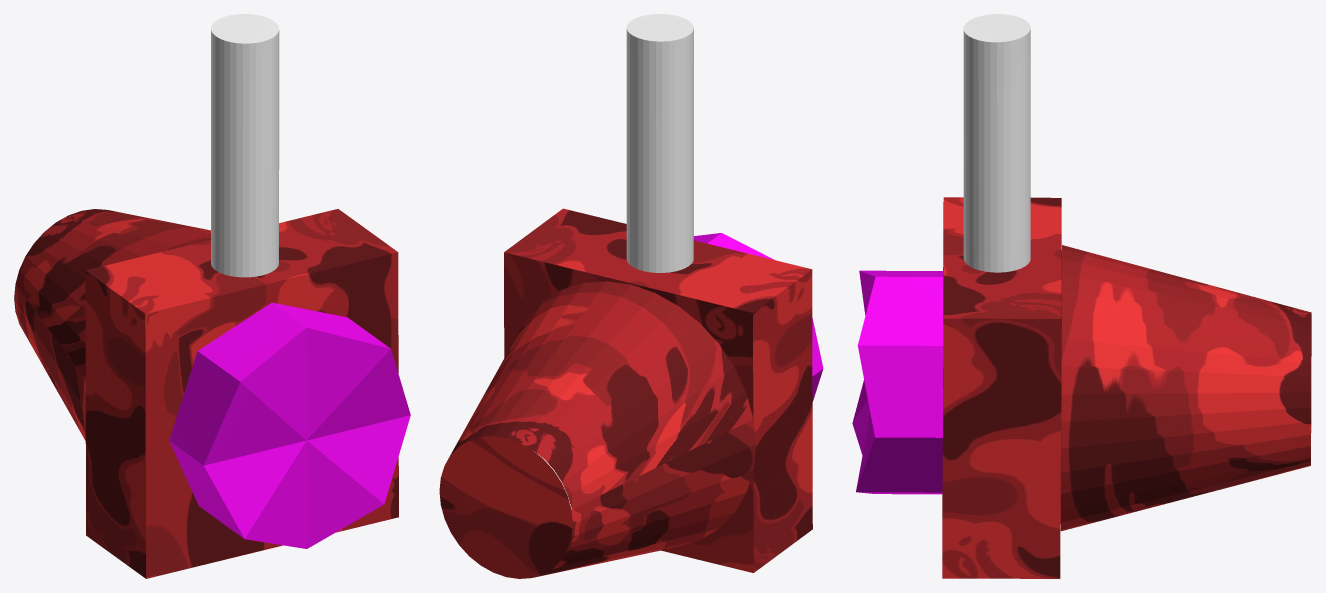
File: BallLauncher.fbx
3 renders of one model, left to right at view 1: azimuth 30°, elevation 25°; view 2: azimuth 150°, elevation 25°; view 3: azimuth 270°, elevation 25°, orthographic.
Visible parts, largest first — view 1: Cube; view 2: Cube; view 3: Cube.
Boxes of the visible parts, x1,y1,x2,y2 form: Cube: [14, 14, 410, 578]; Cube: [439, 14, 823, 578]; Cube: [852, 14, 1311, 578].
Bounding box in the file's own units: 2.02 × 3.79 × 3.2.
